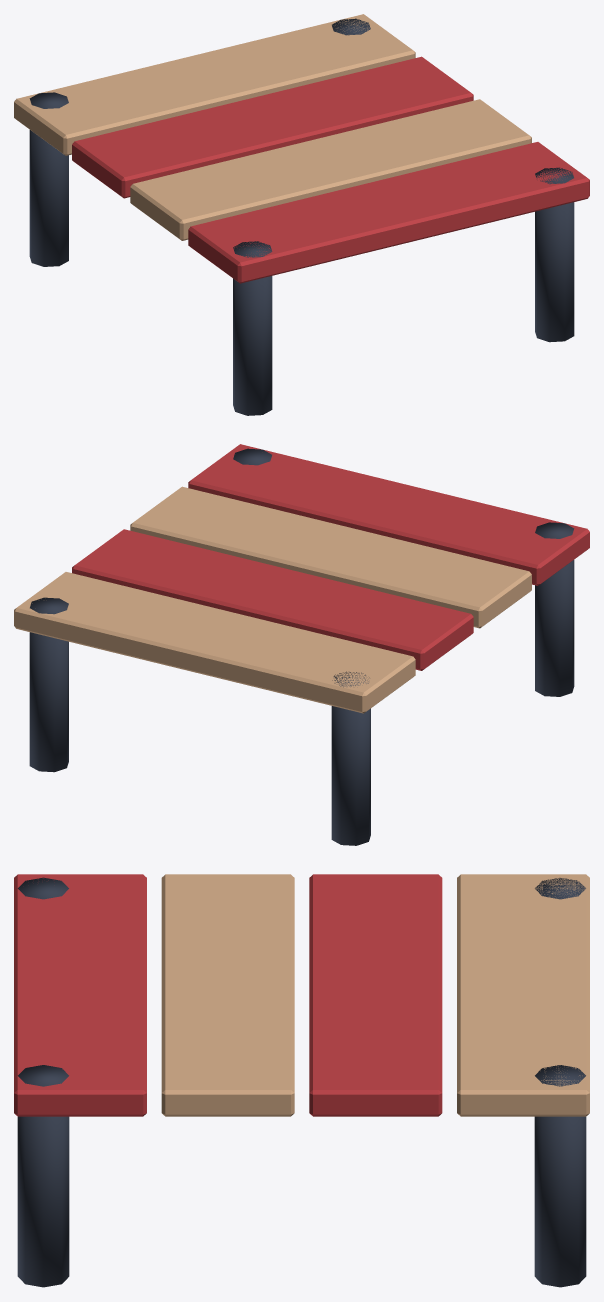
The model's file is pontoon.glb.
3 views of the same model, one above another, from view 1: azimuth 30°, elevation 25°; view 2: azimuth 150°, elevation 25°; view 3: azimuth 270°, elevation 25° (orthographic). The views are drawn at different scales.
Visible parts, largest first — view 1: pontoon, pontoon_plank2, pontoon_plank1, pontoon_plank3, pontoon_post0, pontoon_post1, pontoon_post2, pontoon_post3; view 2: pontoon_plank3, pontoon_plank1, pontoon_plank2, pontoon, pontoon_post3, pontoon_post2, pontoon_post0, pontoon_post1; view 3: pontoon_plank1, pontoon_plank2, pontoon_plank3, pontoon, pontoon_post1, pontoon_post3, pontoon_post0, pontoon_post2.
Boxes of the visible parts, <box> form: pontoon: <box>188,142,589,283</box>; pontoon_plank2: <box>72,56,473,198</box>; pontoon_plank1: <box>130,99,531,240</box>; pontoon_plank3: <box>14,14,415,155</box>; pontoon_post0: <box>233,241,272,415</box>; pontoon_post1: <box>535,167,574,342</box>; pontoon_post2: <box>29,92,68,266</box>; pontoon_post3: <box>332,18,370,35</box>; pontoon_plank3: <box>14,572,415,713</box>; pontoon_plank1: <box>130,486,531,628</box>; pontoon_plank2: <box>72,529,473,670</box>; pontoon: <box>188,444,589,585</box>; pontoon_post3: <box>29,597,68,772</box>; pontoon_post2: <box>331,671,370,845</box>; pontoon_post0: <box>535,522,574,696</box>; pontoon_post1: <box>233,448,271,465</box>; pontoon_plank1: <box>161,874,294,1116</box>; pontoon_plank2: <box>309,874,442,1116</box>; pontoon_plank3: <box>457,874,589,1116</box>; pontoon: <box>14,874,146,1116</box>; pontoon_post1: <box>17,1065,69,1287</box>; pontoon_post3: <box>534,1065,586,1287</box>; pontoon_post0: <box>18,877,68,899</box>; pontoon_post2: <box>535,878,585,899</box>.
Size of the model in its own units: 1.4 by 0.6 by 1.56.
